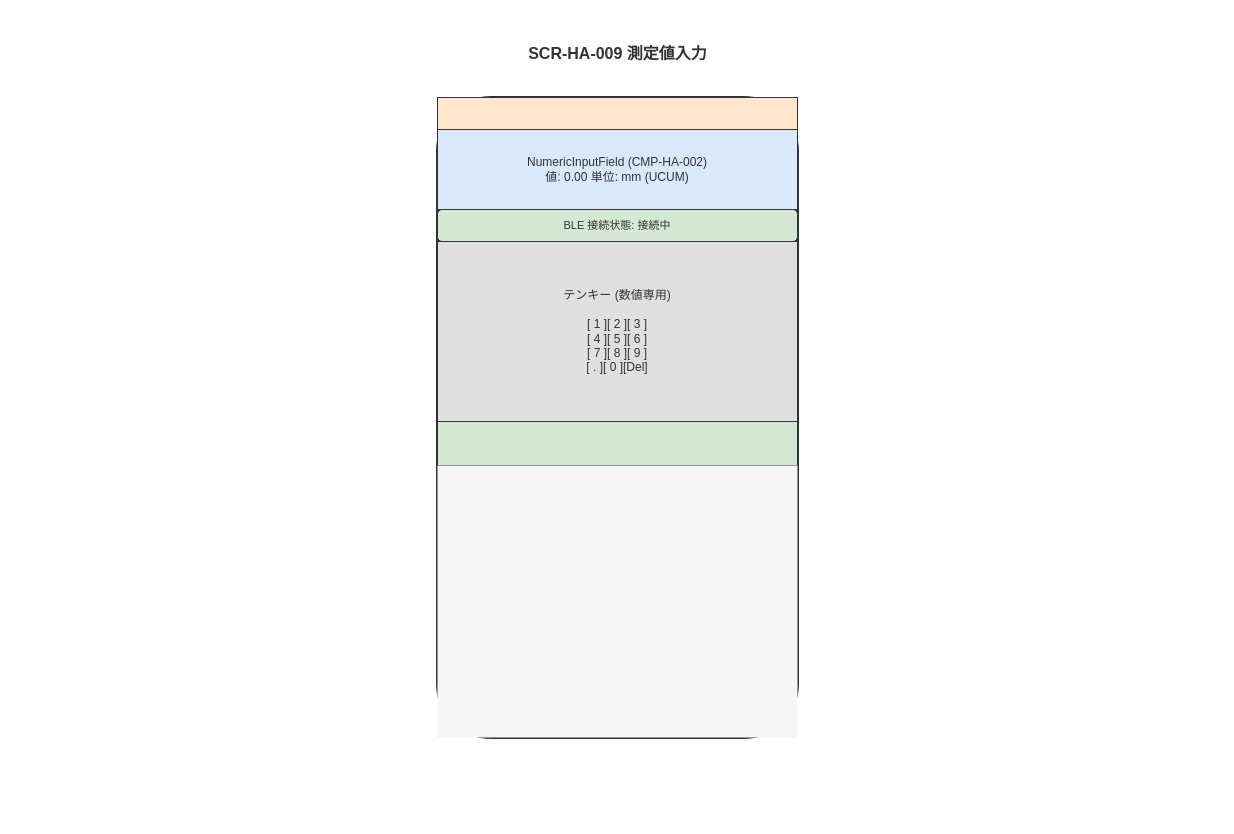
Some shapes in this 1234 by 834 pixel diagram are drawn without their labels. Each missing label, with the centre of its shape:
"OfflineBanner" goes at (x=617, y=113).
"確定 ボタン (44dp)" goes at (x=617, y=443).
